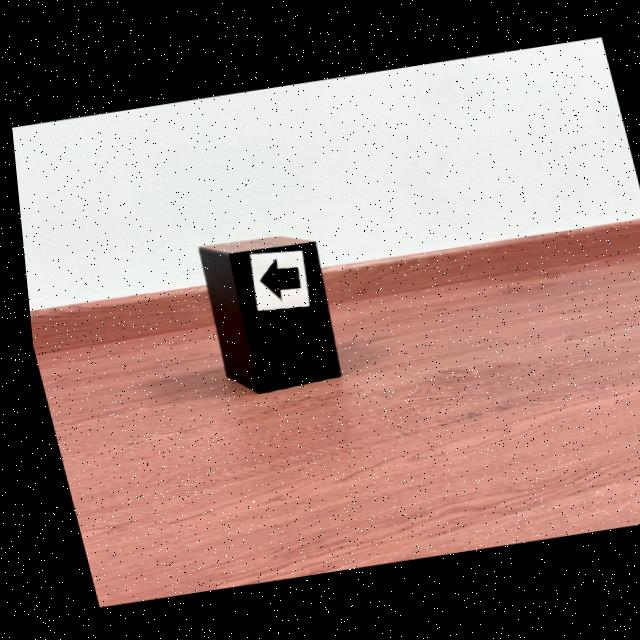LEFT: (255, 259, 296, 300)
